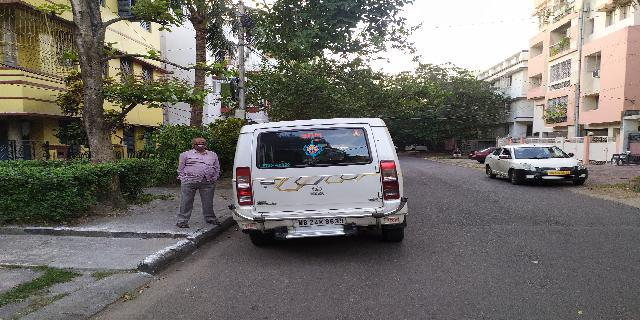Car: (226, 120, 419, 244), (480, 139, 598, 188)
